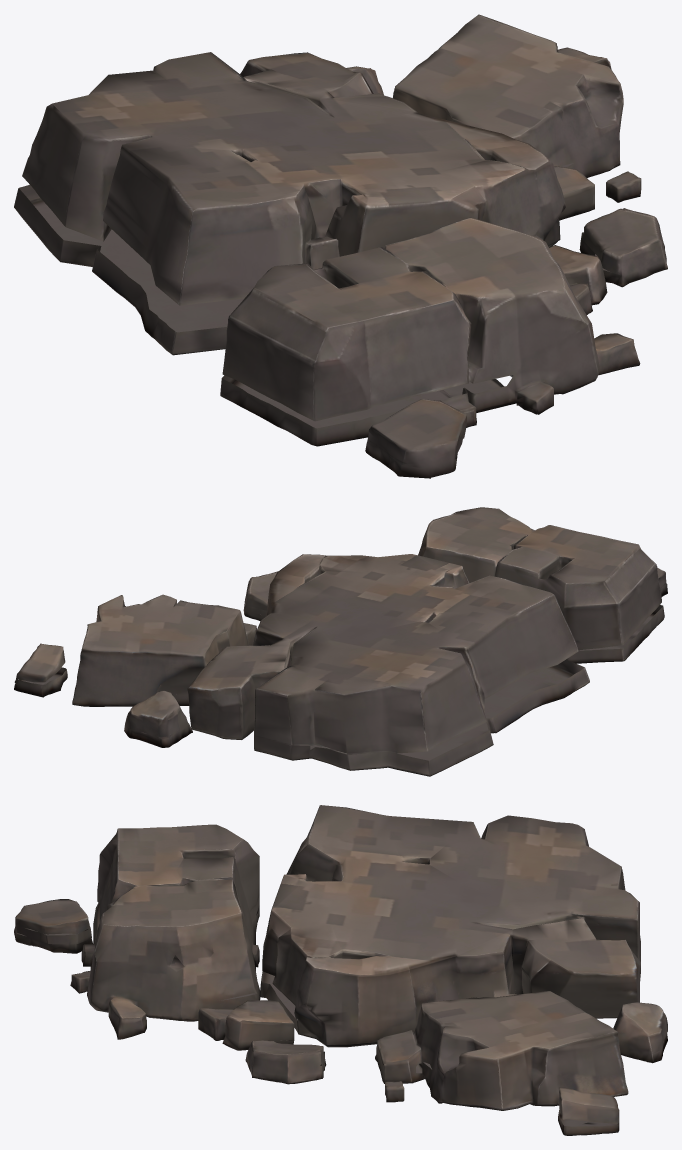
Rendered from rubble_small.glb.
3 views of the same model, one above another, from view 1: azimuth 30°, elevation 25°; view 2: azimuth 150°, elevation 25°; view 3: azimuth 270°, elevation 25° (orthographic). The views are drawn at different scales.
Visible parts, largest first — view 1: tripo_node_807b2802-7a21-400b-9cdb-ee673dee8ee5; view 2: tripo_node_807b2802-7a21-400b-9cdb-ee673dee8ee5; view 3: tripo_node_807b2802-7a21-400b-9cdb-ee673dee8ee5.
Boxes of the visible parts, x1,y1,x2,y2 form: tripo_node_807b2802-7a21-400b-9cdb-ee673dee8ee5: (14, 14, 667, 478); tripo_node_807b2802-7a21-400b-9cdb-ee673dee8ee5: (14, 507, 667, 776); tripo_node_807b2802-7a21-400b-9cdb-ee673dee8ee5: (14, 805, 667, 1135).
Size of the model in its own units: 0.8591 by 0.1898 by 1.
1 material, 1 textured.
